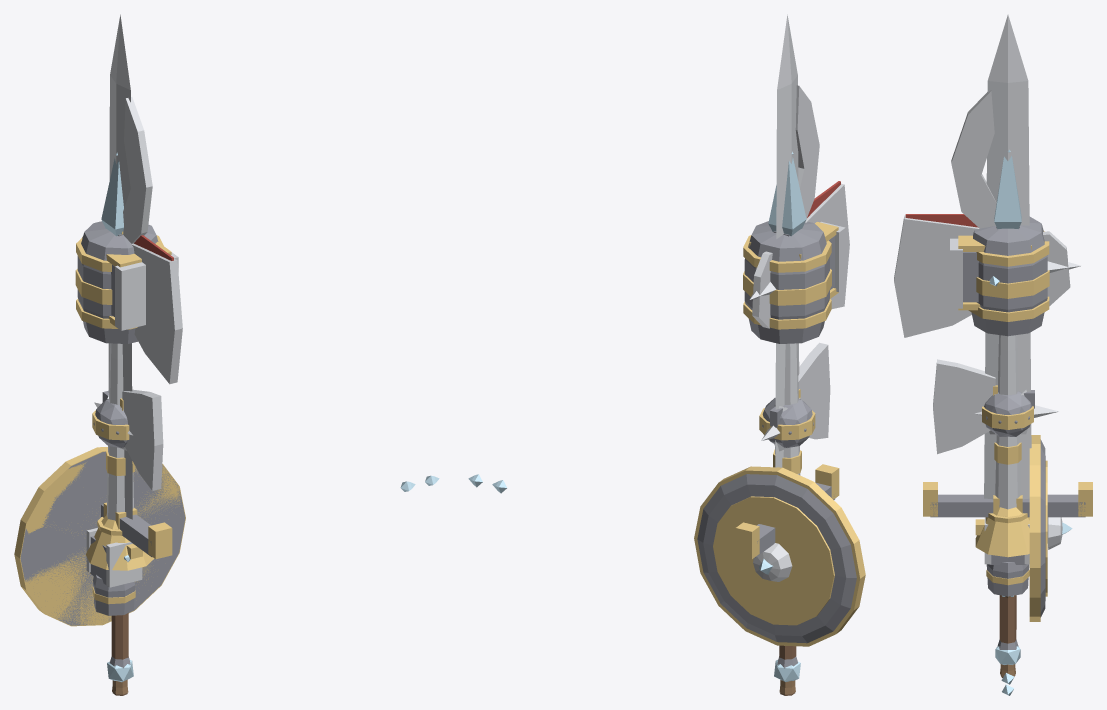
The model's file is weapons-warrior.glb.
3 renders of one model, left to right at view 1: azimuth 30°, elevation 25°; view 2: azimuth 150°, elevation 25°; view 3: azimuth 270°, elevation 25°, orthographic. The views are drawn at different scales.
Parts seen in each view (by area): view 1: shield_l_mesh, greatsword_mesh, greataxe_mesh, maul_mesh, lance_mesh, warhammer_mesh, axe_mesh, glaive_mesh, gauntlets_mesh, chainaxe_mesh, gauntlets_l_mesh, enchspear_mesh; view 2: shield_l_mesh, maul_mesh, greatsword_mesh, greataxe_mesh, axe_mesh, glaive_mesh, chainaxe_mesh, warhammer_mesh, enchspear_mesh, lance_mesh; view 3: greatsword_mesh, greataxe_mesh, maul_mesh, lance_mesh, axe_mesh, glaive_mesh, shield_l_mesh, warhammer_mesh, chainaxe_mesh, gauntlets_mesh, enchspear_mesh, gauntlets_l_mesh (+1 smaller).
Boxes of the visible parts, x1=… form: shield_l_mesh: x1=14, y1=447, x2=185, y2=626; greatsword_mesh: x1=101, y1=14, x2=172, y2=682; greataxe_mesh: x1=111, y1=234, x2=415, y2=694; maul_mesh: x1=75, y1=221, x2=163, y2=343; lance_mesh: x1=86, y1=343, x2=154, y2=570; warhammer_mesh: x1=82, y1=236, x2=178, y2=668; axe_mesh: x1=102, y1=389, x2=163, y2=490; glaive_mesh: x1=112, y1=97, x2=439, y2=695; gauntlets_mesh: x1=90, y1=536, x2=142, y2=615; chainaxe_mesh: x1=92, y1=395, x2=132, y2=450; gauntlets_l_mesh: x1=86, y1=528, x2=135, y2=615; enchspear_mesh: x1=101, y1=158, x2=123, y2=236; shield_l_mesh: x1=694, y1=466, x2=865, y2=646; maul_mesh: x1=743, y1=221, x2=831, y2=343; greatsword_mesh: x1=735, y1=14, x2=839, y2=681; greataxe_mesh: x1=492, y1=183, x2=849, y2=694; axe_mesh: x1=770, y1=342, x2=830, y2=439; glaive_mesh: x1=468, y1=85, x2=819, y2=695; chainaxe_mesh: x1=759, y1=397, x2=815, y2=451; warhammer_mesh: x1=749, y1=221, x2=845, y2=668; enchspear_mesh: x1=768, y1=157, x2=806, y2=236; lance_mesh: x1=773, y1=343, x2=801, y2=475; greatsword_mesh: x1=923, y1=14, x2=1092, y2=664; greataxe_mesh: x1=894, y1=215, x2=1070, y2=684; maul_mesh: x1=968, y1=216, x2=1049, y2=336; lance_mesh: x1=975, y1=335, x2=1029, y2=557; axe_mesh: x1=933, y1=359, x2=1034, y2=598; glaive_mesh: x1=951, y1=90, x2=1015, y2=695; shield_l_mesh: x1=1029, y1=435, x2=1072, y2=621; warhammer_mesh: x1=950, y1=235, x2=1081, y2=649; chainaxe_mesh: x1=974, y1=390, x2=1058, y2=436; gauntlets_mesh: x1=984, y1=517, x2=1029, y2=596; enchspear_mesh: x1=994, y1=156, x2=1021, y2=229; gauntlets_l_mesh: x1=986, y1=524, x2=1029, y2=596.
Size of the model in its own units: 1.93 by 3.06 by 0.835.
